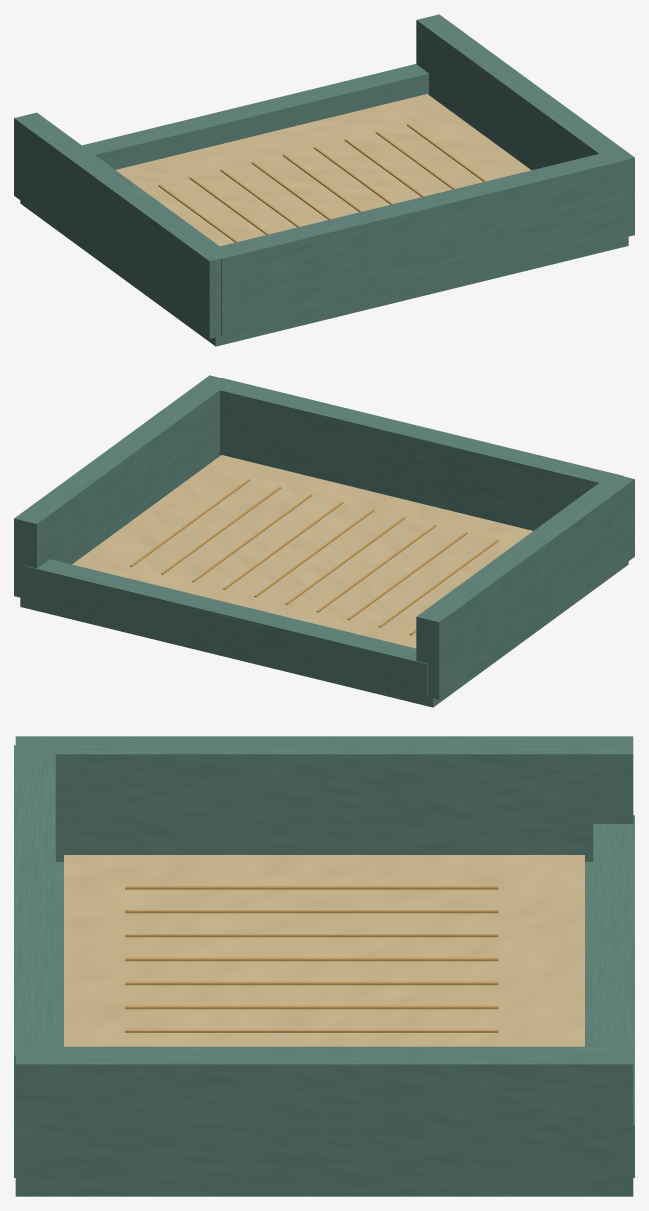
The model's file is yukkuri_toilet.obj.
The picture shows the model from 3 angles, top to bottom: view 1: azimuth 30°, elevation 25°; view 2: azimuth 150°, elevation 25°; view 3: azimuth 270°, elevation 25°; orthographic projection. The views are drawn at different scales.
Parts seen in each view (by area): view 1: yukkuri_toilet; view 2: yukkuri_toilet; view 3: yukkuri_toilet.
Boxes of the visible parts, <box> form: yukkuri_toilet: <box>14,14,634,346</box>; yukkuri_toilet: <box>14,375,634,707</box>; yukkuri_toilet: <box>14,736,634,1196</box>.
Size of the model in its own units: 12.05 by 2.35 by 9.65.
Materials: 1 (1 with a texture image).
